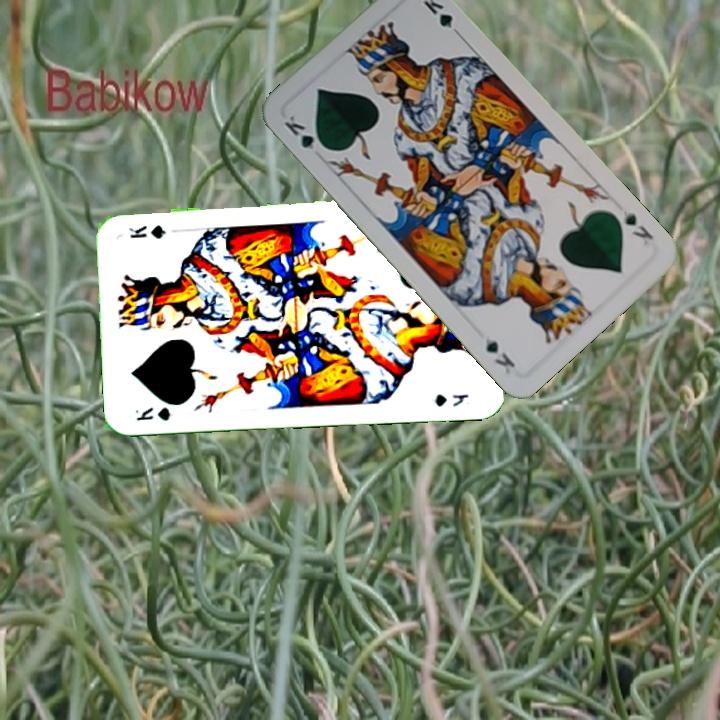GK: (280, 111, 330, 155), (619, 206, 657, 249), (131, 403, 173, 424)
